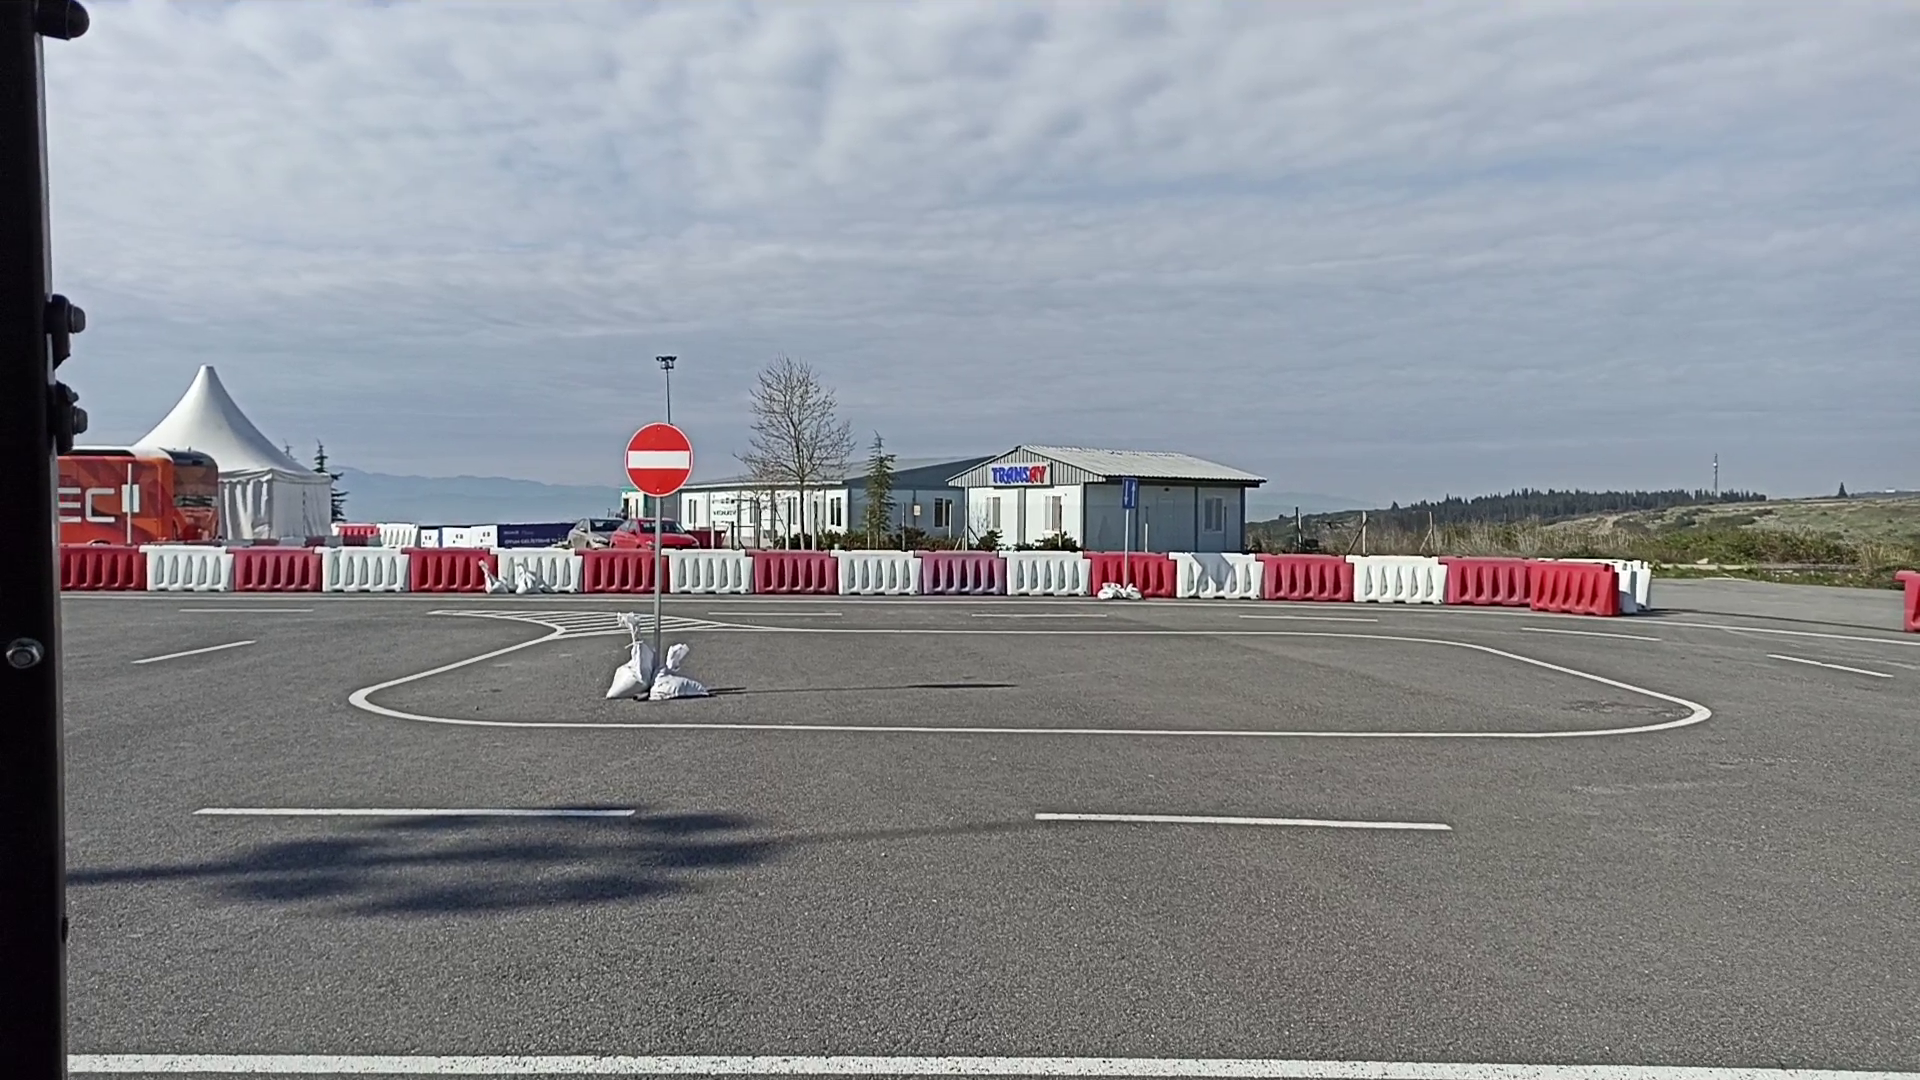noentryway: (622, 419, 695, 498)
